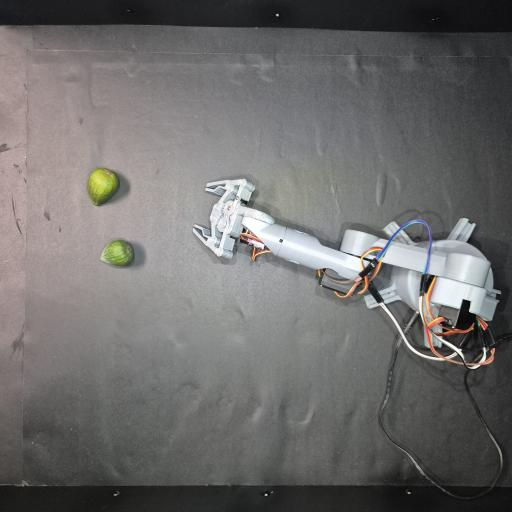higo: (88, 168, 119, 205), (100, 240, 134, 266)
